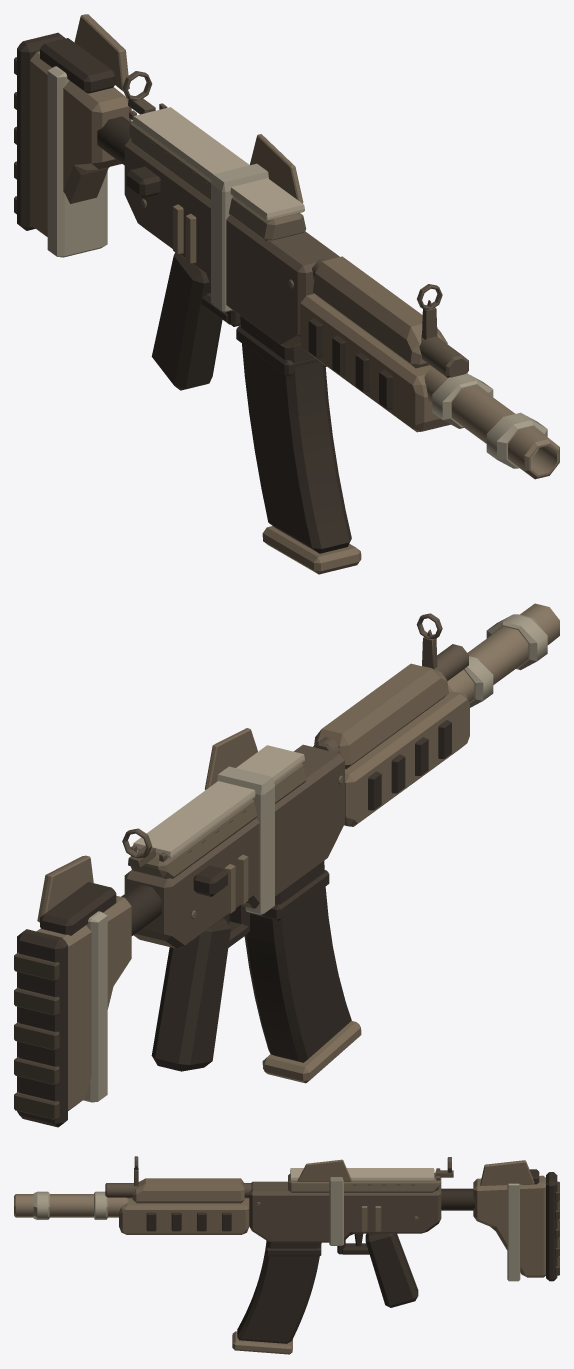
The model's file is w_ar@cardboard.glb.
3 views of the same model, one above another, from view 1: azimuth 30°, elevation 25°; view 2: azimuth 150°, elevation 25°; view 3: azimuth 270°, elevation 25° (orthographic). The views are drawn at different scales.
Visible parts, largest first — view 1: mag_wzB__dark__p3a322a, body_wzB__frame__p5e5244, guard_wzA__body__p7a6a56, tape_wzN__tape__pa39a86, stock_wzA__body__p7a6a56, grip_wzB__dark__p3a322a, stock_wzB__dark__p3a322a, cut_wzN__cut__pb3a690, barrel_wzB__tube__p857560, flap_wzA__body__p7a6a56, body_wzA__deck__p6e6250, guard_wzN__dark__p3a322a (+4 smaller); view 2: body_wzB__frame__p5e5244, mag_wzB__dark__p3a322a, guard_wzA__body__p7a6a56, stock_wzB__dark__p3a322a, grip_wzB__dark__p3a322a, tape_wzN__tape__pa39a86, stock_wzA__body__p7a6a56, cut_wzN__cut__pb3a690, flute_wzN__flute__p4c4236, flap_wzA__body__p7a6a56, barrel_wzB__tube__p857560, body_wzA__deck__p6e6250 (+5 smaller); view 3: body_wzB__frame__p5e5244, guard_wzA__body__p7a6a56, mag_wzB__dark__p3a322a, stock_wzA__body__p7a6a56, tape_wzN__tape__pa39a86, grip_wzB__dark__p3a322a, stock_wzB__dark__p3a322a, flap_wzA__body__p7a6a56, barrel_wzB__tube__p857560, body_wzA__deck__p6e6250, cut_wzN__cut__pb3a690, guard_wzN__dark__p3a322a (+4 smaller).
Boxes of the visible parts, left/top/right/bottom form: mag_wzB__dark__p3a322a: left=236, top=316, right=351, bottom=553; body_wzB__frame__p5e5244: left=124, top=138, right=468, bottom=377; guard_wzA__body__p7a6a56: left=300, top=256, right=467, bottom=432; tape_wzN__tape__pa39a86: left=47, top=66, right=547, bottom=468; stock_wzA__body__p7a6a56: left=30, top=51, right=131, bottom=236; grip_wzB__dark__p3a322a: left=151, top=252, right=240, bottom=390; stock_wzB__dark__p3a322a: left=17, top=32, right=130, bottom=230; cut_wzN__cut__pb3a690: left=133, top=107, right=304, bottom=220; barrel_wzB__tube__p857560: left=424, top=366, right=559, bottom=479; flap_wzA__body__p7a6a56: left=74, top=14, right=303, bottom=203; body_wzA__deck__p6e6250: left=129, top=120, right=306, bottom=240; guard_wzN__dark__p3a322a: left=308, top=318, right=392, bottom=408; body_wzB__frame__p5e5244: left=124, top=644, right=468, bottom=948; mag_wzB__dark__p3a322a: left=244, top=861, right=351, bottom=1062; guard_wzA__body__p7a6a56: left=314, top=663, right=469, bottom=826; stock_wzB__dark__p3a322a: left=17, top=882, right=161, bottom=1127; grip_wzB__dark__p3a322a: left=151, top=905, right=249, bottom=1071; tape_wzN__tape__pa39a86: left=83, top=614, right=547, bottom=1102; stock_wzA__body__p7a6a56: left=36, top=896, right=131, bottom=1110; cut_wzN__cut__pb3a690: left=133, top=745, right=304, bottom=858; flute_wzN__flute__p4c4236: left=14, top=952, right=59, bottom=1119; flap_wzA__body__p7a6a56: left=37, top=728, right=257, bottom=922; barrel_wzB__tube__p857560: left=447, top=603, right=559, bottom=701; body_wzA__deck__p6e6250: left=130, top=763, right=305, bottom=878; body_wzB__frame__p5e5244: left=105, top=1181, right=441, bottom=1242; guard_wzA__body__p7a6a56: left=119, top=1178, right=249, bottom=1234; mag_wzB__dark__p3a322a: left=237, top=1240, right=321, bottom=1343; stock_wzA__body__p7a6a56: left=473, top=1175, right=545, bottom=1277; tape_wzN__tape__pa39a86: left=33, top=1177, right=520, bottom=1281; grip_wzB__dark__p3a322a: left=337, top=1233, right=418, bottom=1307; stock_wzB__dark__p3a322a: left=441, top=1169, right=557, bottom=1281; flap_wzA__body__p7a6a56: left=297, top=1159, right=534, bottom=1185; barrel_wzB__tube__p857560: left=14, top=1194, right=128, bottom=1217; body_wzA__deck__p6e6250: left=288, top=1172, right=441, bottom=1192; cut_wzN__cut__pb3a690: left=290, top=1168, right=434, bottom=1181; guard_wzN__dark__p3a322a: left=146, top=1212, right=231, bottom=1231.
Bounding box in the file's own units: 0.1042 × 0.4717 × 1.2.
